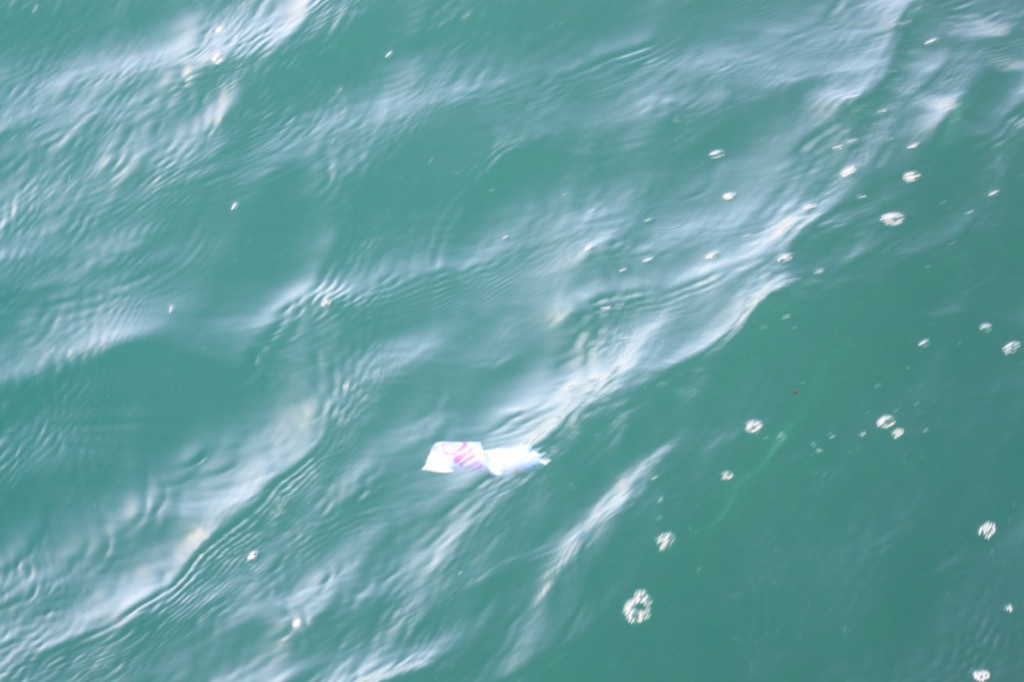plastic: (394, 419, 574, 493)
